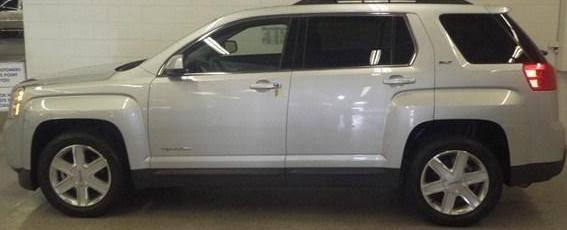backlight: (514, 60, 562, 100)
headlight: (2, 87, 34, 127)
side_glass: (171, 17, 429, 69)
